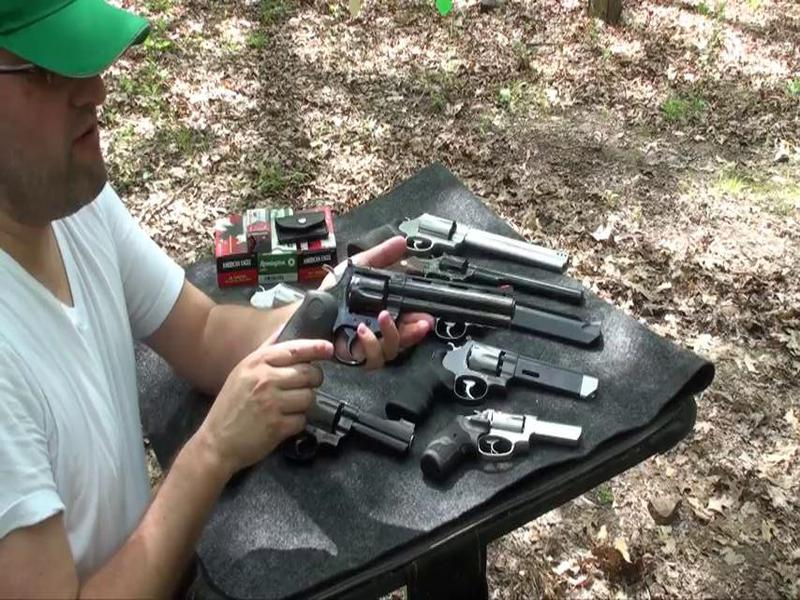Revolver: (276, 254, 517, 374)
